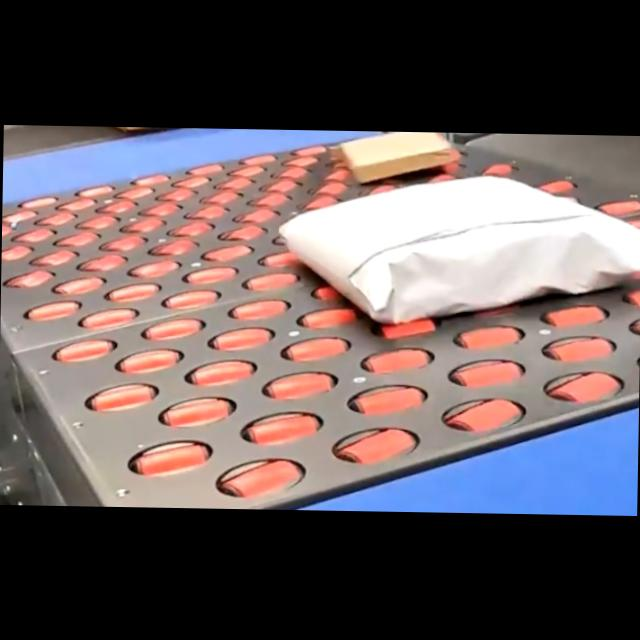mailer: (282, 172, 640, 317), (338, 130, 458, 180)
